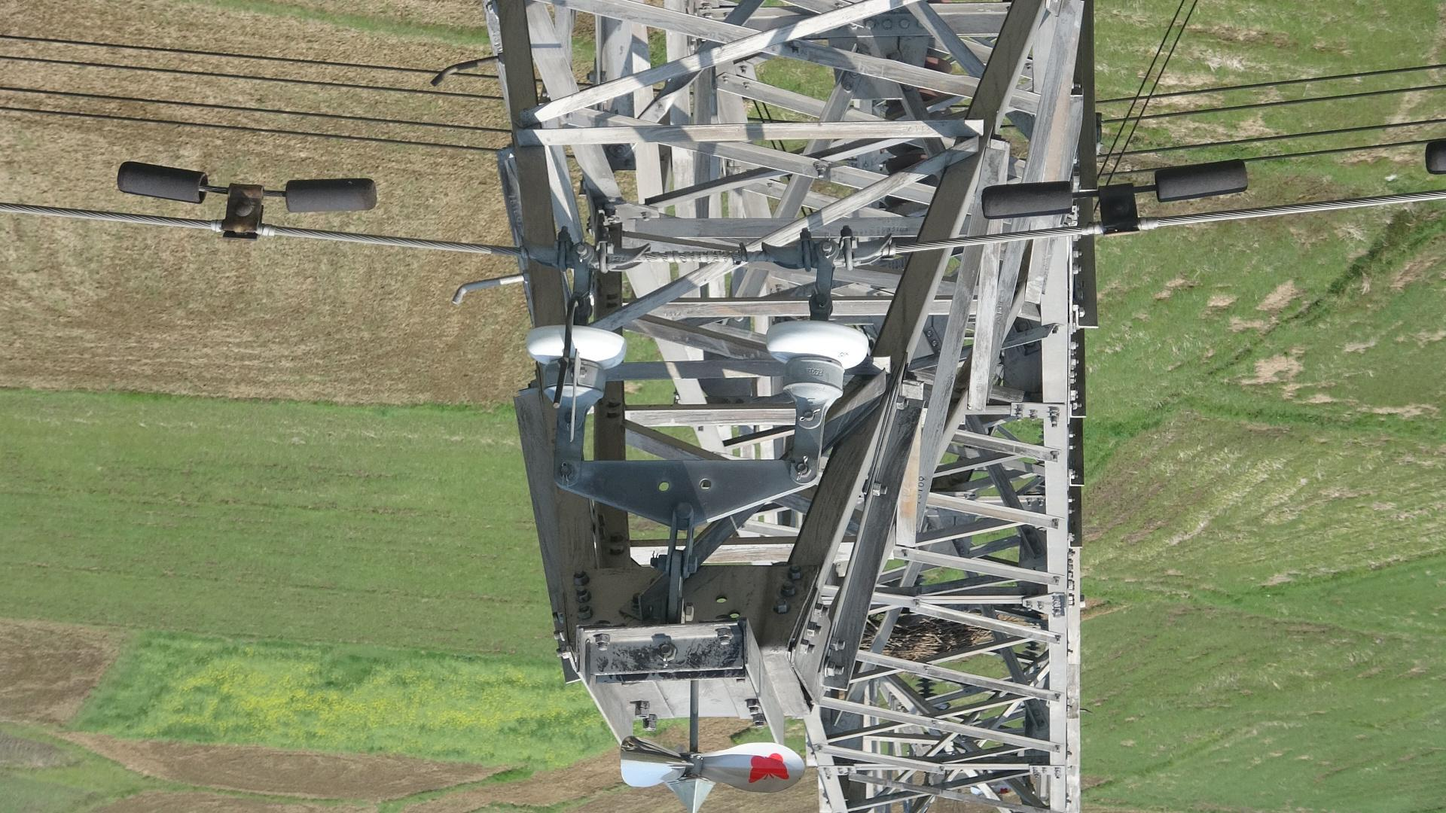damper: (974, 153, 1254, 244), (108, 155, 386, 246)
nest: (880, 618, 983, 668)
